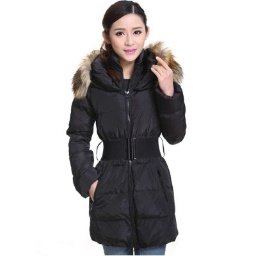face: (100, 1, 151, 65)
